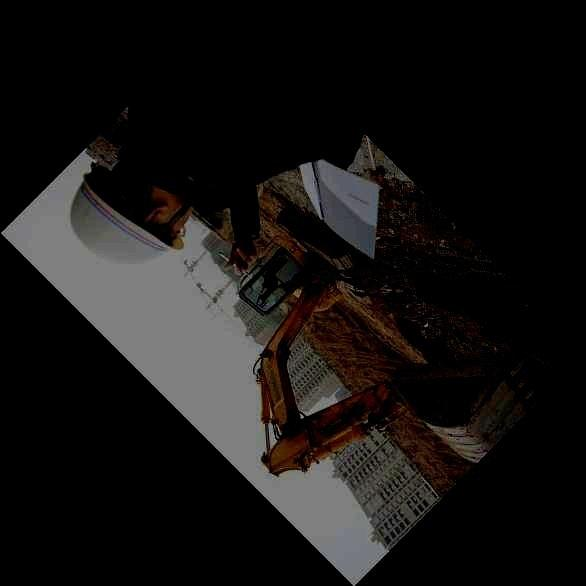helmet: (69, 149, 194, 267)
